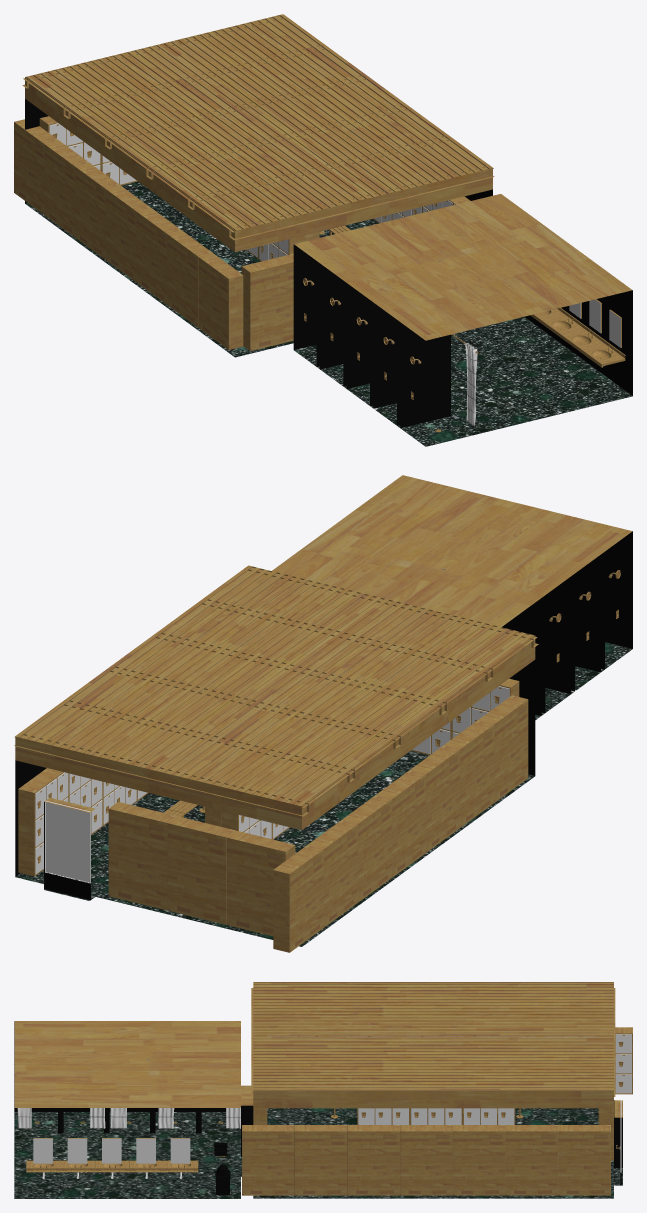
The model's file is LockerRoom.fbx.
The picture shows the model from 3 angles, top to bottom: view 1: azimuth 30°, elevation 25°; view 2: azimuth 150°, elevation 25°; view 3: azimuth 270°, elevation 25°; orthographic projection. The views are drawn at different scales.
Visible parts, largest first — view 1: Cube.006_metal_0, walls_white_0, lockers_metal_0, walls_floor_0, walls.002_tile_0, walls_tile_0, lockers.005_metal_0, Cube.006_white_0, walls.002_tile_green_0, sinks_white_0, walls_tile_green_0, lockers.004_blue_0 (+2 smaller); view 2: Cube.006_metal_0, walls_white_0, lockers_metal_0, lockers.004_metal_0, walls_floor_0, walls.002_tile_0, walls_tile_0, walls.001_metal_0, Cube.006_white_0, lockers.003_blue_0, lockers.003_metal_0, lockers.005_blue_0 (+2 smaller); view 3: Cube.006_metal_0, walls_white_0, lockers.003_metal_0, walls_floor_0, sinks_mirror_0, lockers.001_blue_0, sinks_white_0, Plane_Material_0, lockers_blue_0, walls_tile_green_0, walls_tile_0, Cube.006_white_0 (+5 smaller).
Boxes of the visible parts, box(x1,y1,x2,y2) form: Cube.006_metal_0: box(23, 14, 493, 232); walls_white_0: box(25, 15, 632, 340); lockers_metal_0: box(14, 119, 243, 349); walls_floor_0: box(25, 181, 632, 446); walls.002_tile_0: box(316, 267, 450, 421); walls_tile_0: box(25, 103, 632, 389); lockers.005_metal_0: box(241, 253, 293, 351); Cube.006_white_0: box(22, 18, 494, 240); walls.002_tile_green_0: box(316, 261, 450, 428); sinks_white_0: box(530, 299, 625, 367); walls_tile_green_0: box(25, 99, 632, 395); lockers.004_blue_0: box(49, 123, 136, 184); Cube.006_metal_0: box(14, 565, 537, 807); walls_white_0: box(15, 475, 632, 829); lockers_metal_0: box(273, 695, 528, 952); lockers.004_metal_0: box(108, 802, 295, 936); walls_floor_0: box(15, 642, 632, 946); walls.002_tile_0: box(502, 558, 604, 708); walls_tile_0: box(15, 537, 632, 881); walls.001_metal_0: box(45, 800, 90, 900); Cube.006_white_0: box(14, 569, 538, 816); lockers.003_blue_0: box(35, 772, 146, 874); lockers.003_metal_0: box(18, 768, 148, 876); lockers.005_blue_0: box(412, 686, 509, 754); Cube.006_metal_0: box(253, 982, 613, 1090); walls_white_0: box(14, 982, 622, 1117); lockers.003_metal_0: box(242, 1125, 610, 1195); walls_floor_0: box(14, 1108, 622, 1198); sinks_mirror_0: box(33, 1138, 190, 1178); lockers.001_blue_0: box(358, 1108, 514, 1124); sinks_white_0: box(26, 1138, 198, 1172); Plane_Material_0: box(17, 1108, 240, 1128); lockers_blue_0: box(267, 1034, 631, 1093); walls_tile_green_0: box(14, 1021, 622, 1168); walls_tile_0: box(14, 1027, 622, 1162); Cube.006_white_0: box(251, 988, 615, 1096).
Size of the model in its own units: 783 by 365 by 1872.
